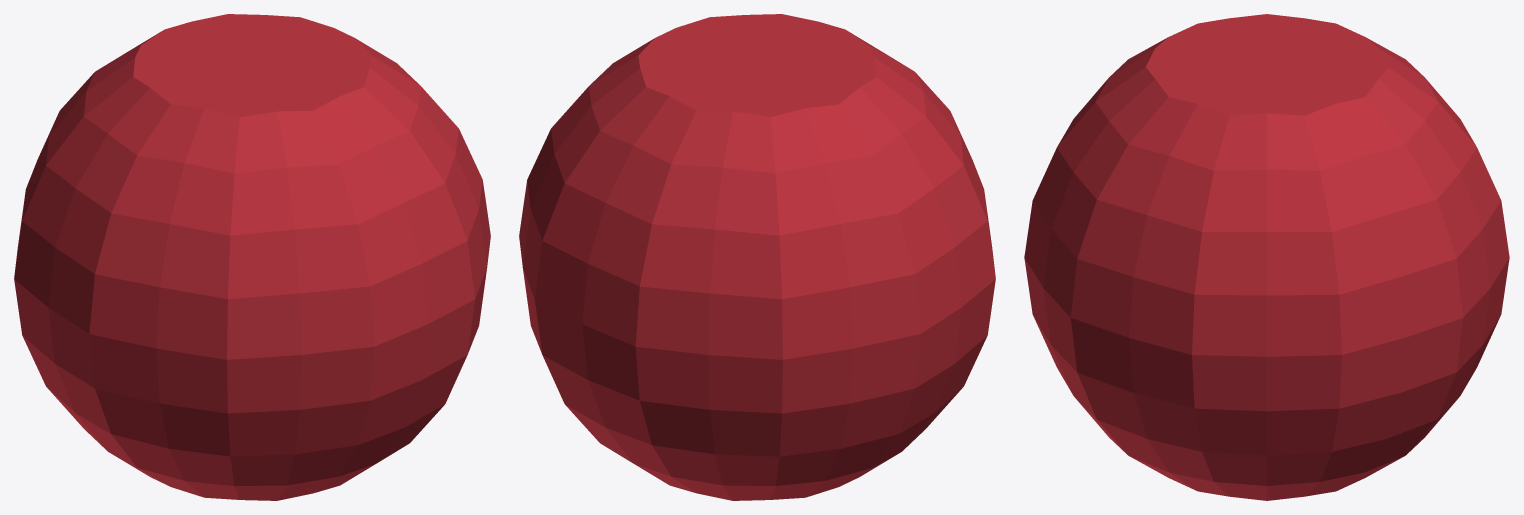
The model's file is TaiwanLantern_Test.fbx.
3 views of the same model, side by side, from view 1: azimuth 30°, elevation 25°; view 2: azimuth 150°, elevation 25°; view 3: azimuth 270°, elevation 25° (orthographic).
Parts seen in each view (by area): view 1: Cylinder.002; view 2: Cylinder.002; view 3: Cylinder.002.
Part boxes in pixels (box(x1,y1,x2,y2)): Cylinder.002: box(14, 14, 490, 500); Cylinder.002: box(519, 14, 995, 500); Cylinder.002: box(1024, 14, 1509, 500).
Size of the model in its own units: 194 by 176 by 200.
